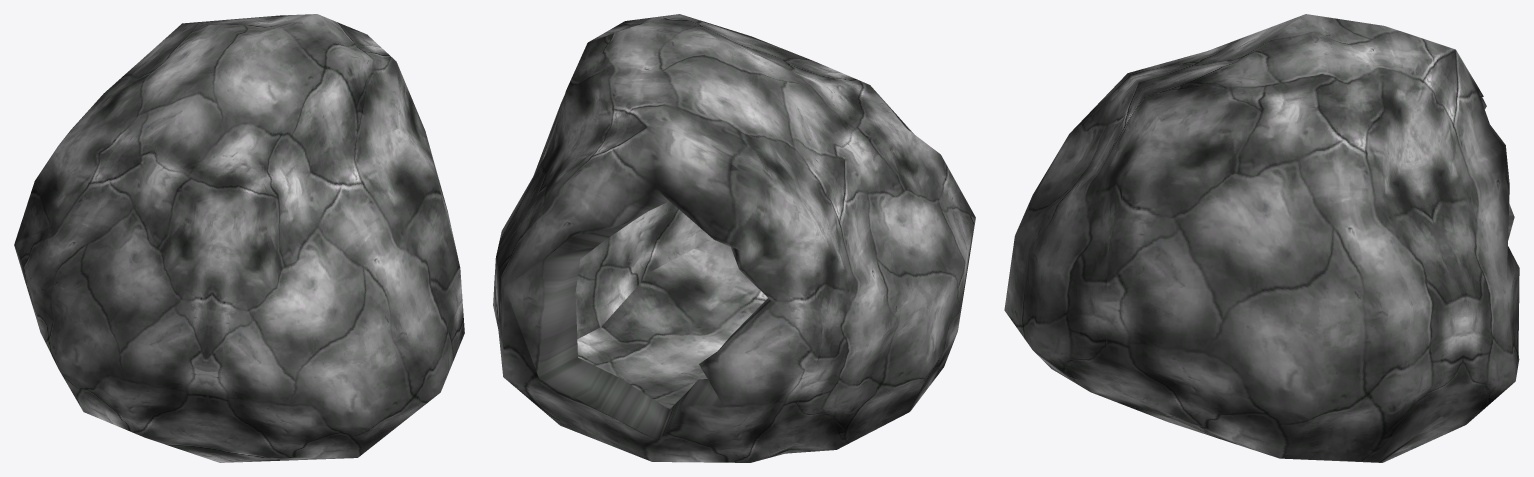
File: INST_TROLLHOLE_BADGERHOUSE.fbx
The picture shows the model from 3 angles, left to right: view 1: azimuth 30°, elevation 25°; view 2: azimuth 150°, elevation 25°; view 3: azimuth 270°, elevation 25°; orthographic projection. The views are drawn at different scales.
Parts seen in each view (by area): view 1: INST_TROLLHOLE_BADGERHOUSE; view 2: INST_TROLLHOLE_BADGERHOUSE; view 3: INST_TROLLHOLE_BADGERHOUSE.
Part boxes in pixels (<box>): INST_TROLLHOLE_BADGERHOUSE: <box>14,14,464,462</box>; INST_TROLLHOLE_BADGERHOUSE: <box>493,14,975,462</box>; INST_TROLLHOLE_BADGERHOUSE: <box>1004,14,1519,462</box>.
Size of the model in its own units: 12872 by 12179 by 13929.
Materials: 2 (2 with a texture image).
